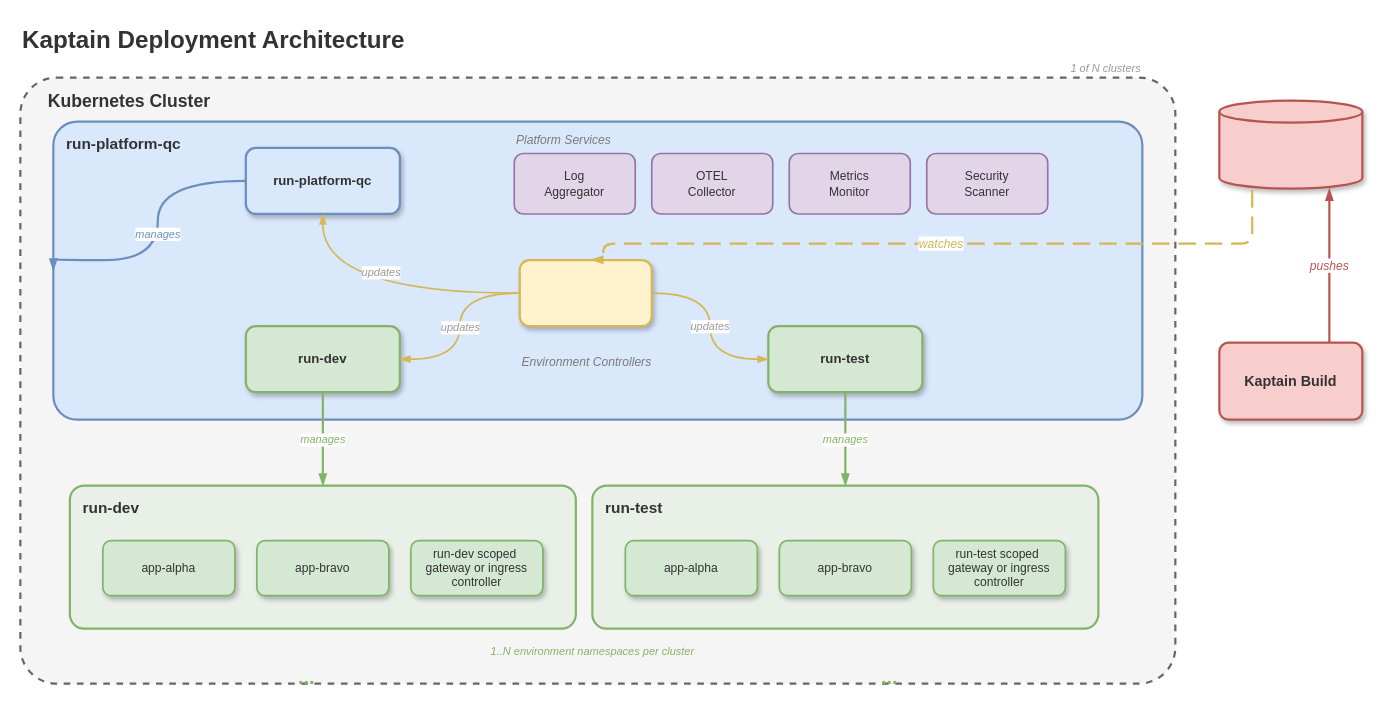
Some shapes in this 1388 by 713 pixel diagram are drawn without their labels. The shapes that lost their labels are listed below. From the top down, each one's centre as x and y in pixels, then its label:
At (1291,146): "Container Registry".
At (586,294): "Keel".
